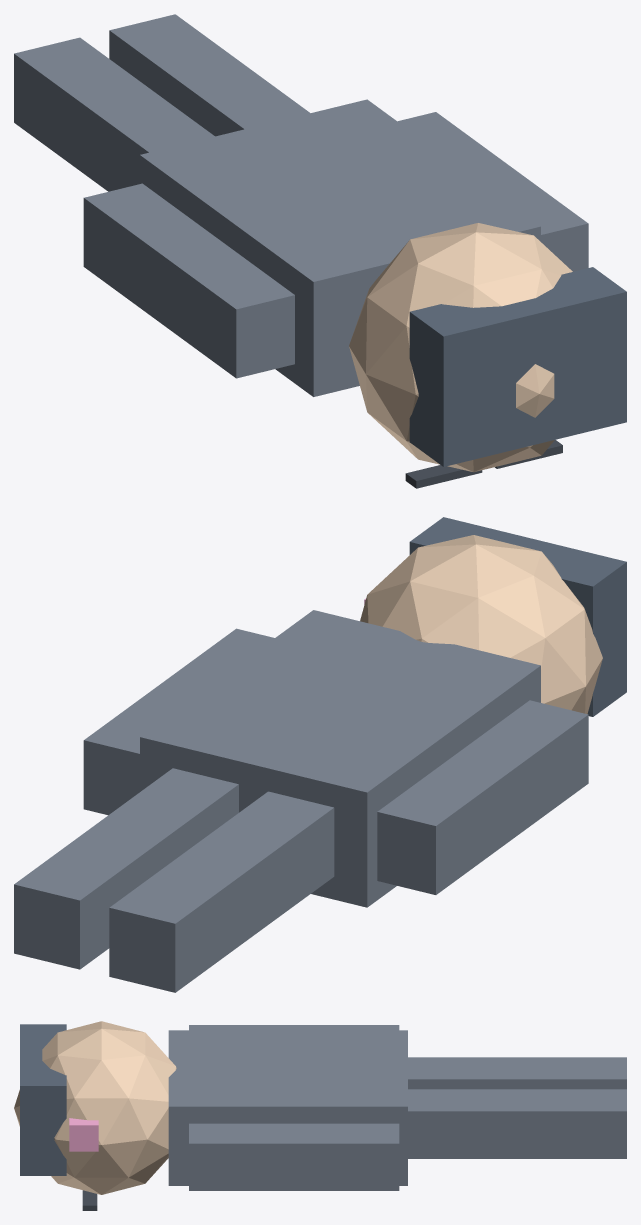
The model's file is engineer_variant_1.glb.
3 renders of one model, top to bottom at view 1: azimuth 30°, elevation 25°; view 2: azimuth 150°, elevation 25°; view 3: azimuth 270°, elevation 25°, orthographic. The views are drawn at different scales.
Visible parts, largest first — view 1: torso_2, hair_6, arm_l_3, head_5, leg_l_0, leg_r_1, arm_r_4, glasses_l_9; view 2: torso_2, leg_l_0, arm_l_3, head_5, leg_r_1, arm_r_4, hair_6; view 3: torso_2, head_5, leg_r_1, arm_r_4, leg_l_0, hair_6, arm_l_3, earring_or_badge_11, glasses_r_10.
Boxes of the visible parts, left/top/right/bottom form: torso_2: left=140, top=99, right=540, bottom=396; hair_6: left=409, top=267, right=626, bottom=466; arm_l_3: left=83, top=183, right=294, bottom=378; head_5: left=349, top=223, right=572, bottom=472; leg_l_0: left=14, top=37, right=214, bottom=191; leg_r_1: left=109, top=14, right=310, bottom=136; arm_r_4: left=397, top=112, right=588, bottom=271; glasses_l_9: left=405, top=465, right=482, bottom=488; torso_2: left=140, top=610, right=540, bottom=907; leg_l_0: left=109, top=791, right=334, bottom=992; arm_l_3: left=377, top=700, right=588, bottom=894; head_5: left=360, top=535, right=602, bottom=714; leg_r_1: left=14, top=768, right=238, bottom=969; arm_r_4: left=83, top=628, right=274, bottom=815; hair_6: left=409, top=517, right=626, bottom=716; torso_2: left=168, top=1030, right=407, bottom=1185; head_5: left=14, top=1021, right=176, bottom=1194; leg_r_1: left=408, top=1089, right=626, bottom=1158; arm_r_4: left=189, top=1123, right=399, bottom=1190; leg_l_0: left=408, top=1057, right=626, bottom=1089; hair_6: left=20, top=1024, right=66, bottom=1175; arm_l_3: left=189, top=1025, right=399, bottom=1030; earring_or_badge_11: left=69, top=1118, right=98, bottom=1151; glasses_r_10: left=82, top=1190, right=97, bottom=1210.
Size of the model in its own units: 0.96 by 0.6 by 2.1.
